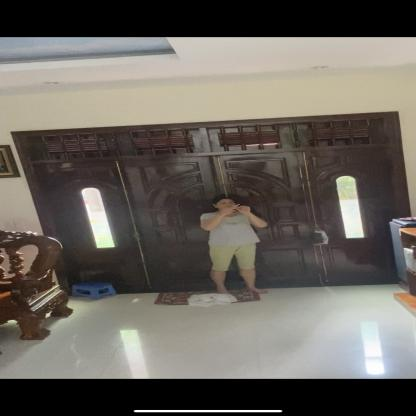cigarette: (234, 203, 241, 207)
person: (200, 192, 271, 301)
